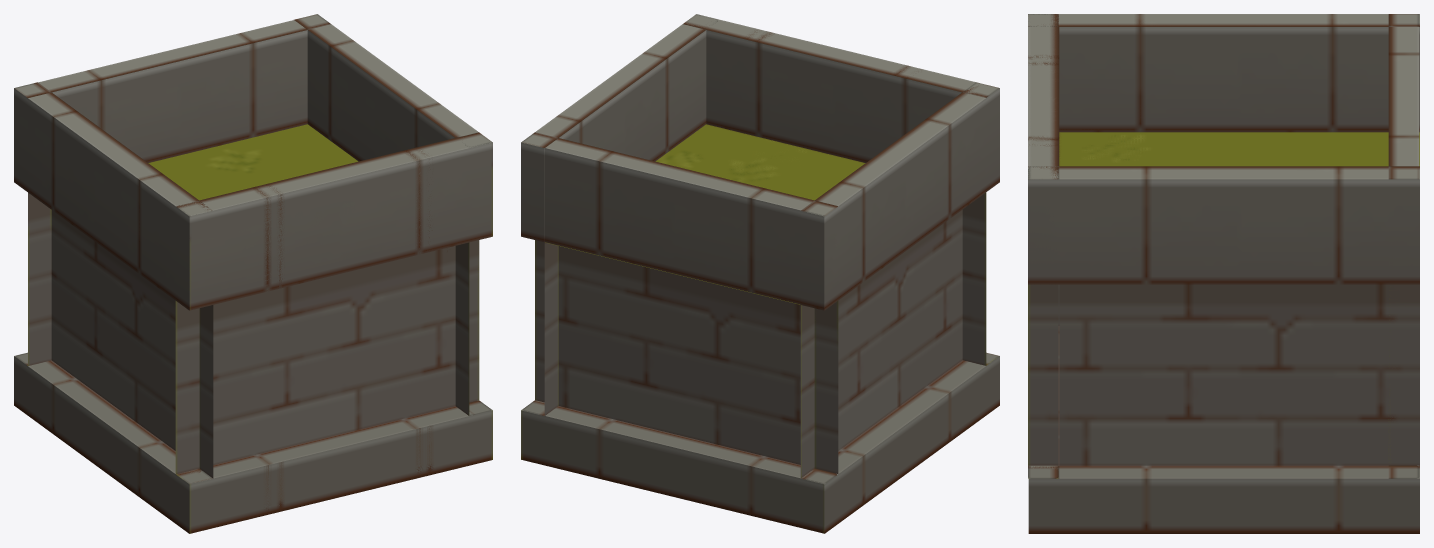
Rendered from Walls.fbx.
The picture shows the model from 3 angles, left to right: view 1: azimuth 30°, elevation 25°; view 2: azimuth 150°, elevation 25°; view 3: azimuth 270°, elevation 25°; orthographic projection. The views are drawn at different scales.
Parts seen in each view (by area): view 1: NormalWall, CornerWall, DoubleCorner, ParalelWall, WallInnerL, UShapedWall, InnerCorner4, InnerCorner2, InnerCorner1, InnerCorner3, WallDoubleInner; view 2: ParalelWall, UShapedWall, DoubleCorner, CornerWall, InnerCorner2, InnerCorner4, InnerCorner1, NormalWall, WallInnerL, InnerCorner3, WallInnerR, WallDoubleInner; view 3: UShapedWall, InnerCorner2, InnerCorner4, CornerWall, DoubleCorner, NormalWall, ParalelWall, WallInnerL, InnerCorner1.
Part boxes in pixels (x1=…): NormalWall: x1=175, y1=135, x2=492, y2=533; CornerWall: x1=14, y1=98, x2=492, y2=533; DoubleCorner: x1=14, y1=92, x2=485, y2=532; ParalelWall: x1=14, y1=20, x2=307, y2=365; WallInnerL: x1=176, y1=142, x2=492, y2=480; UShapedWall: x1=14, y1=14, x2=491, y2=533; InnerCorner4: x1=18, y1=14, x2=492, y2=415; InnerCorner2: x1=14, y1=82, x2=252, y2=483; InnerCorner1: x1=175, y1=206, x2=213, y2=483; InnerCorner3: x1=20, y1=158, x2=257, y2=472; WallDoubleInner: x1=213, y1=239, x2=479, y2=344; ParalelWall: x1=521, y1=125, x2=859, y2=533; UShapedWall: x1=521, y1=14, x2=999, y2=533; DoubleCorner: x1=815, y1=132, x2=999, y2=513; CornerWall: x1=681, y1=14, x2=999, y2=533; InnerCorner2: x1=801, y1=89, x2=999, y2=483; InnerCorner4: x1=521, y1=15, x2=999, y2=473; InnerCorner1: x1=680, y1=84, x2=998, y2=364; NormalWall: x1=684, y1=14, x2=993, y2=365; WallInnerL: x1=962, y1=208, x2=998, y2=365; InnerCorner3: x1=546, y1=88, x2=999, y2=472; WallInnerR: x1=545, y1=243, x2=558, y2=415; WallDoubleInner: x1=962, y1=192, x2=986, y2=282; UShapedWall: x1=1028, y1=14, x2=1419, y2=533; InnerCorner2: x1=1029, y1=14, x2=1419, y2=166; InnerCorner4: x1=1028, y1=166, x2=1419, y2=478; CornerWall: x1=1028, y1=14, x2=1272, y2=325; DoubleCorner: x1=1028, y1=14, x2=1419, y2=465; NormalWall: x1=1028, y1=14, x2=1096, y2=478; ParalelWall: x1=1059, y1=27, x2=1419, y2=478; WallInnerL: x1=1028, y1=14, x2=1223, y2=277; InnerCorner1: x1=1034, y1=15, x2=1161, y2=166.
Bounding box in the file's own units: 100 × 100 × 100.
